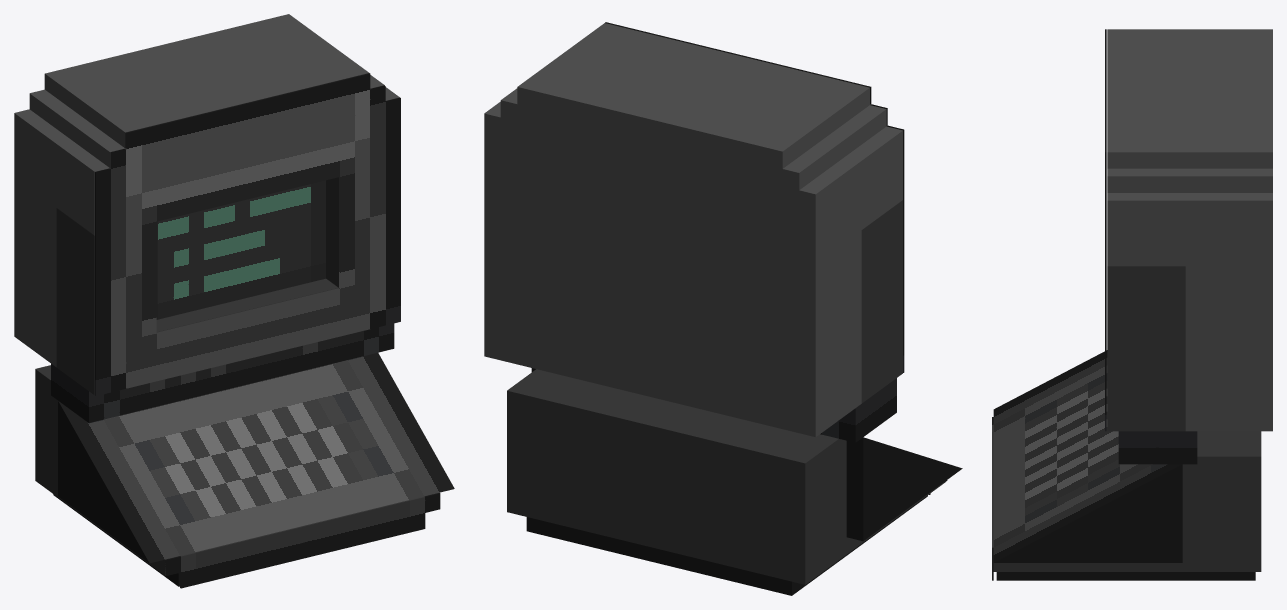
File: CMU3DRMCPropComputerLargeDark.glb
3 renders of one model, left to right at view 1: azimuth 30°, elevation 25°; view 2: azimuth 150°, elevation 25°; view 3: azimuth 270°, elevation 25°, orthographic. The views are drawn at different scales.
Visible parts, largest first — view 1: original stepped monitor face, sloping original keyboard deck, rounded crown step, recessed display glass, monitor rear casing, hinge rail, original front base bevel, left bezel housing, lower bezel housing, upper bezel housing, stepped upper casing, rear keyboard platform (+2 smaller); view 2: monitor rear casing, rear keyboard platform, rounded crown step, stepped upper casing, sloping original keyboard deck, keyboard underside, left bezel housing, source-width supporting foot, upper bezel housing, lower bezel housing, hinge rail, original stepped monitor face; view 3: sloping original keyboard deck, rounded crown step, monitor rear casing, rear keyboard platform, right bezel housing, upper bezel housing, stepped upper casing, lower bezel housing, keyboard underside, hinge rail, source-width supporting foot, original stepped monitor face.
Boxes of the visible parts, left/top/right/bottom form: original stepped monitor face: left=95, top=73, right=400, bottom=395; sloping original keyboard deck: left=58, top=353, right=454, bottom=563; rounded crown step: left=44, top=14, right=368, bottom=147; recessed display glass: left=156, top=180, right=325, bottom=319; monitor rear casing: left=14, top=109, right=71, bottom=367; hinge rail: left=51, top=323, right=394, bottom=422; original front base bevel: left=165, top=492, right=440, bottom=588; left bezel housing: left=56, top=208, right=94, bottom=347; lower bezel housing: left=56, top=278, right=338, bottom=395; upper bezel housing: left=56, top=87, right=399, bottom=235; stepped upper casing: left=29, top=75, right=384, bottom=167; rear keyboard platform: left=35, top=365, right=57, bottom=480; monitor rear casing: left=484, top=102, right=861, bottom=437; rear keyboard platform: left=507, top=369, right=846, bottom=567; rounded crown step: left=517, top=23, right=869, bottom=168; stepped upper casing: left=500, top=88, right=886, bottom=190; sloping original keyboard deck: left=531, top=368, right=962, bottom=541; keyboard underside: left=507, top=481, right=946, bottom=584; left bezel housing: left=861, top=200, right=902, bottom=351; source-width supporting foot: left=526, top=495, right=927, bottom=595; upper bezel housing: left=845, top=126, right=902, bottom=229; lower bezel housing: left=861, top=321, right=902, bottom=403; hinge rail: left=820, top=378, right=896, bottom=442; original stepped monitor face: left=605, top=22, right=904, bottom=372; sloping original keyboard deck: left=993, top=350, right=1182, bottom=562; rounded crown step: left=1107, top=29, right=1272, bottom=168; monitor rear casing: left=1185, top=193, right=1272, bottom=431; rear keyboard platform: left=1182, top=431, right=1261, bottom=555; right bezel housing: left=1107, top=266, right=1185, bottom=381; upper bezel housing: left=1107, top=193, right=1185, bottom=266; stepped upper casing: left=1107, top=168, right=1272, bottom=192; lower bezel housing: left=1107, top=381, right=1185, bottom=431; keyboard underside: left=993, top=555, right=1261, bottom=571; hinge rail: left=1118, top=431, right=1197, bottom=464; source-width supporting foot: left=996, top=572, right=1255, bottom=580; original stepped monitor face: left=1105, top=29, right=1106, bottom=431.
Size of the model in its own units: 0.625 by 0.8125 by 0.483.
8 materials, 5 textured.
